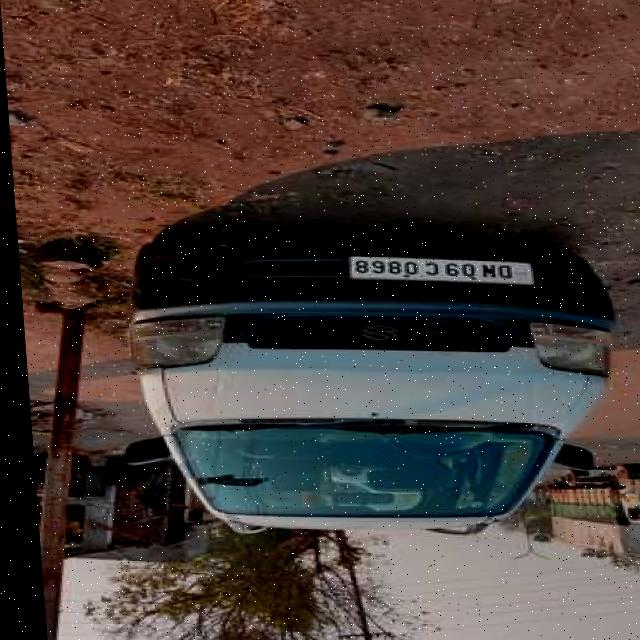plate: (345, 255, 532, 286)
